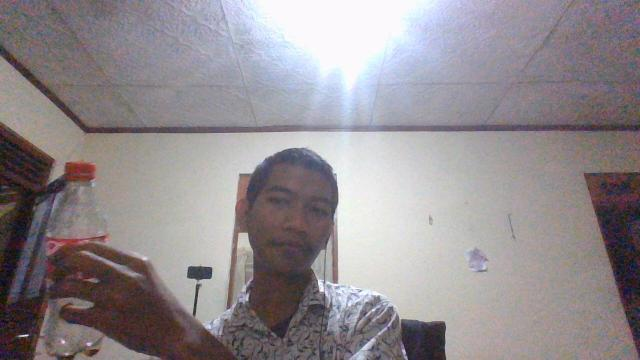coca-cola: (4, 160, 110, 358)
